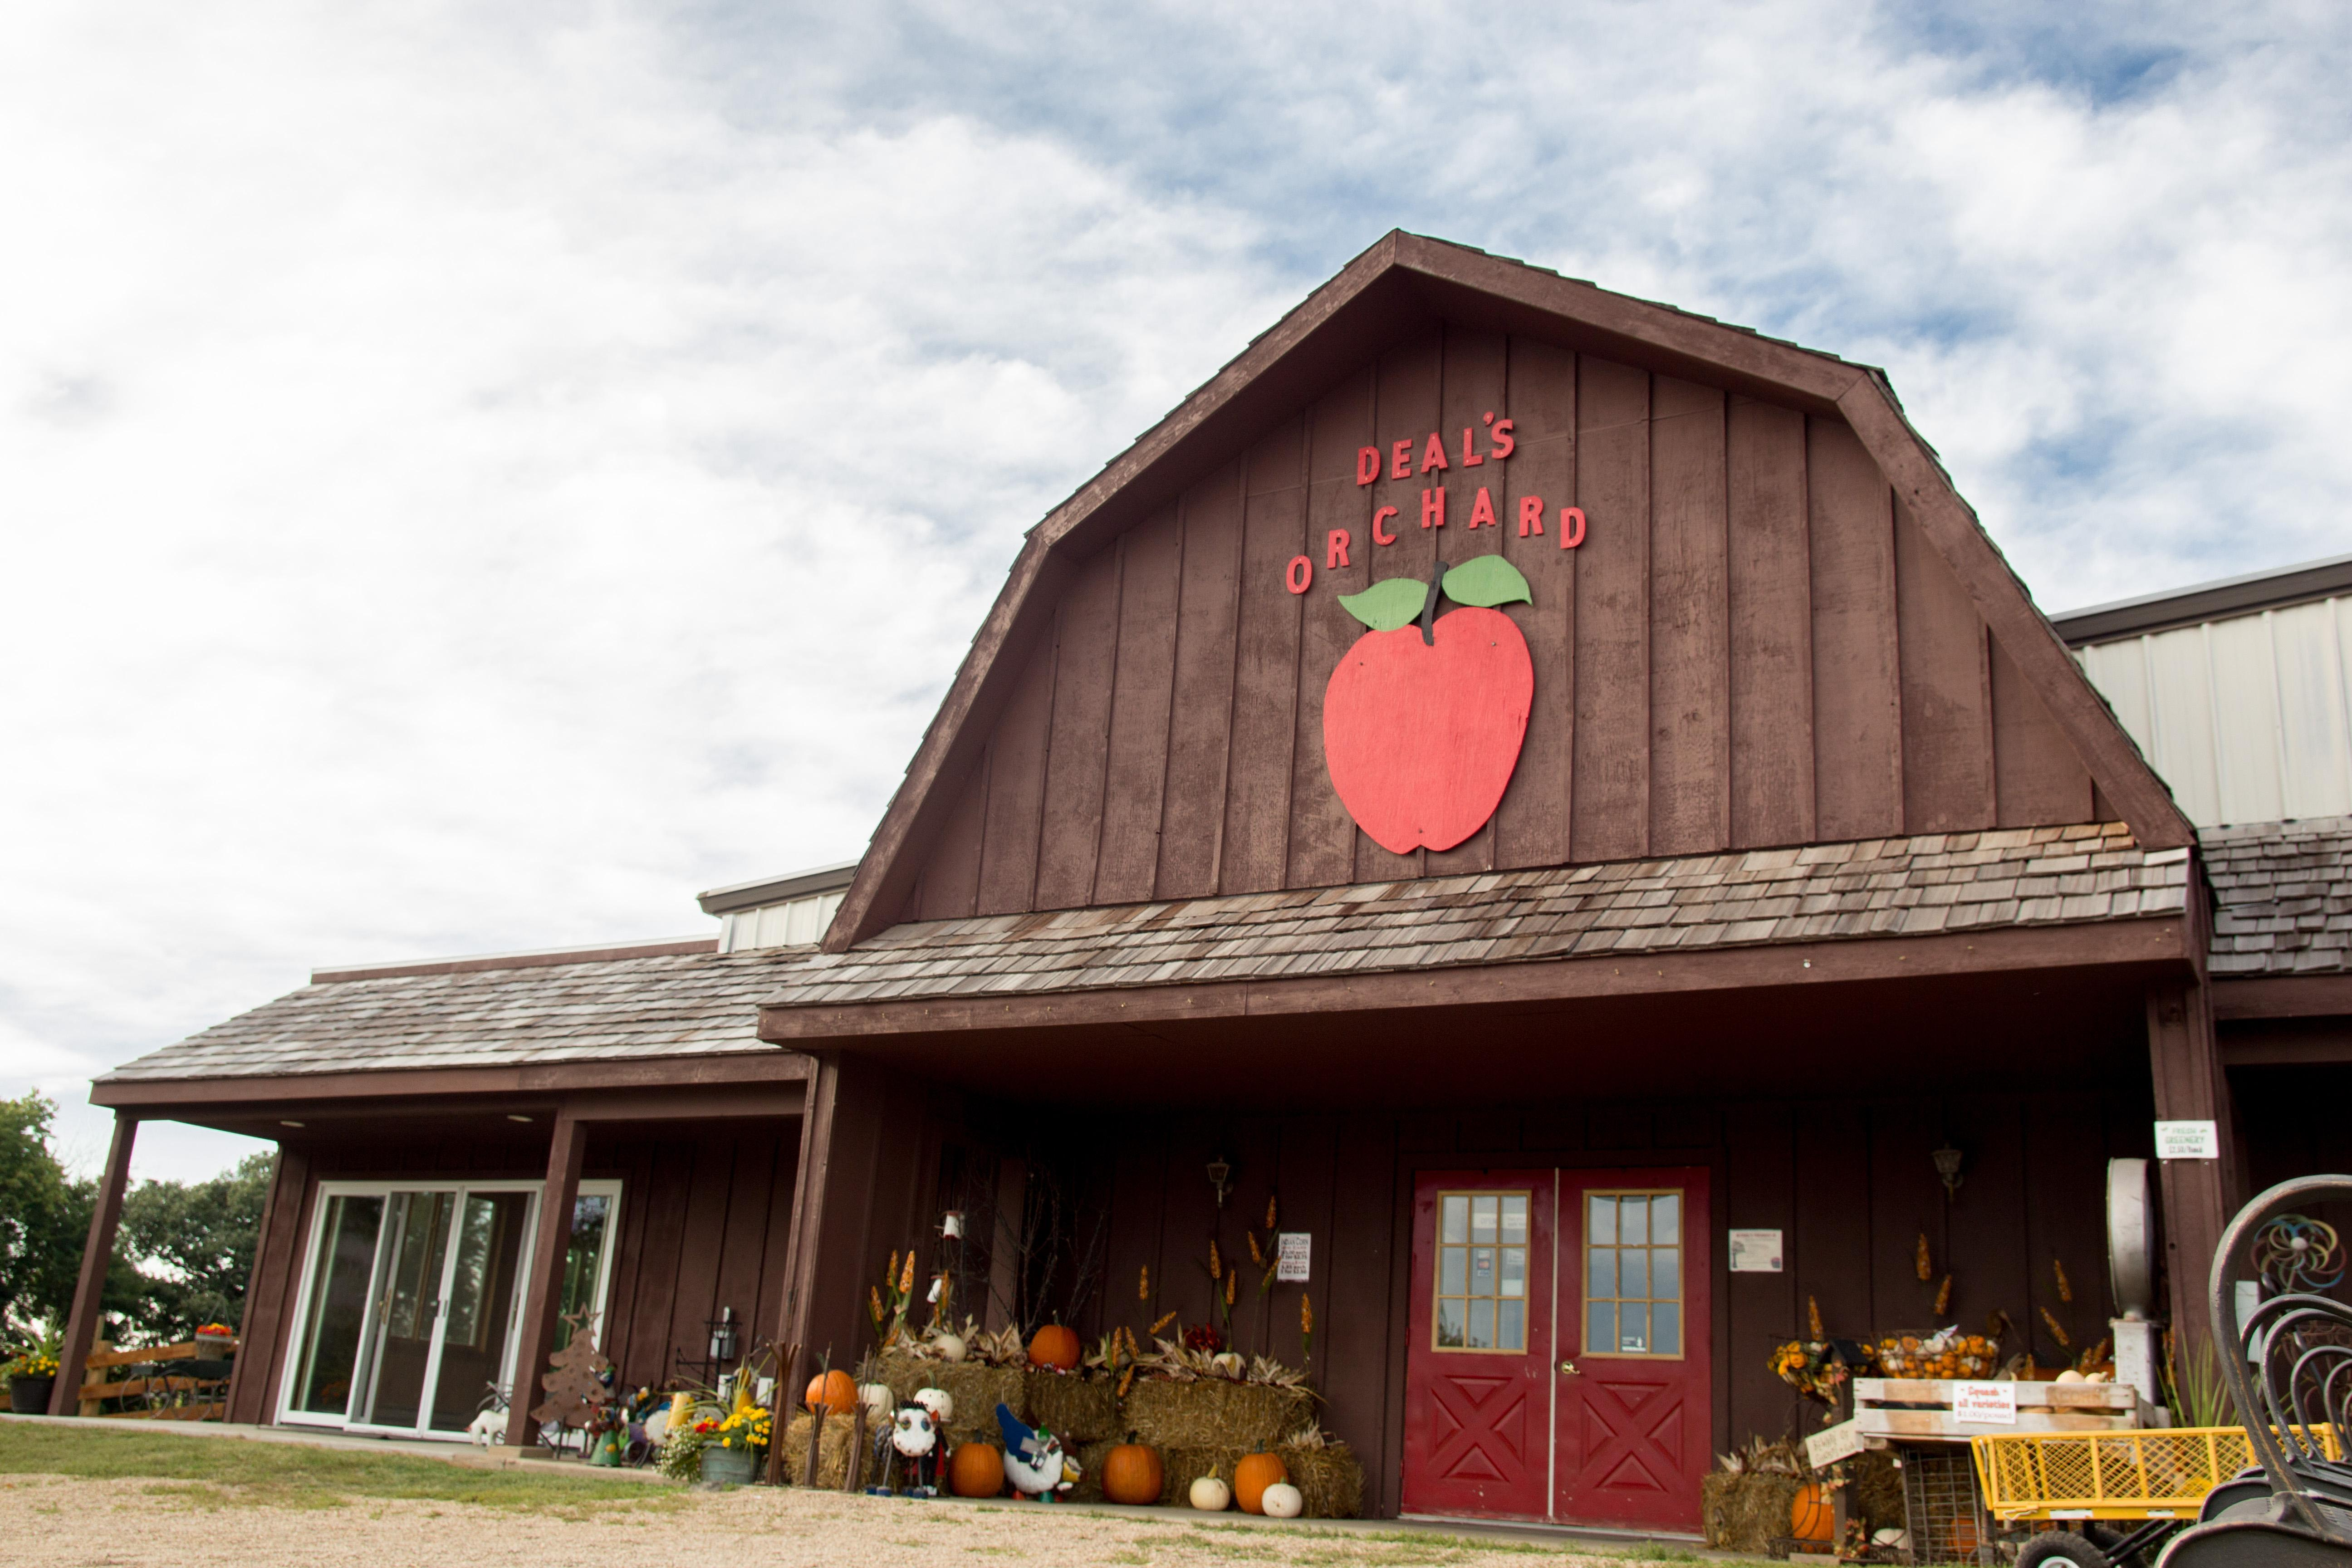apple: (1099, 1438, 1162, 1505)
